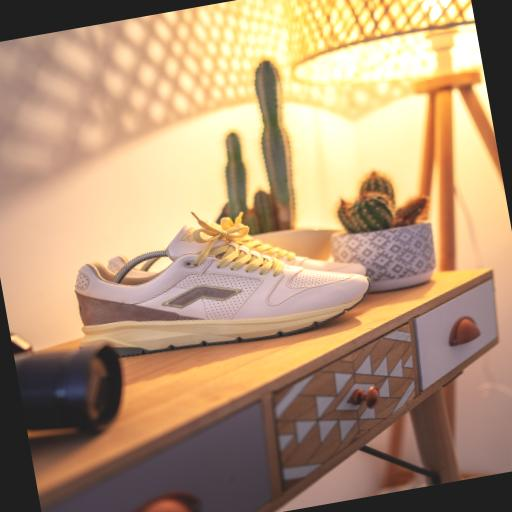shoe: (75, 219, 368, 356), (237, 236, 365, 275)
